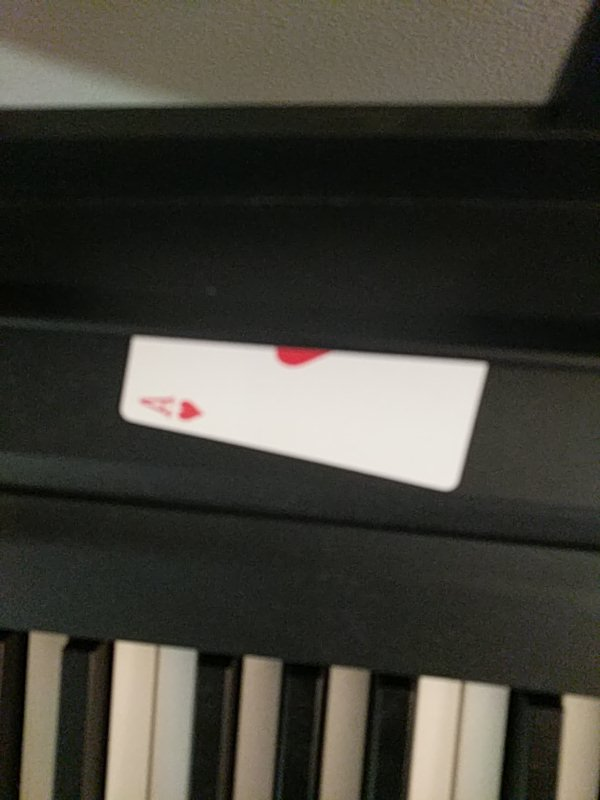Hearts: (118, 328, 489, 488)
